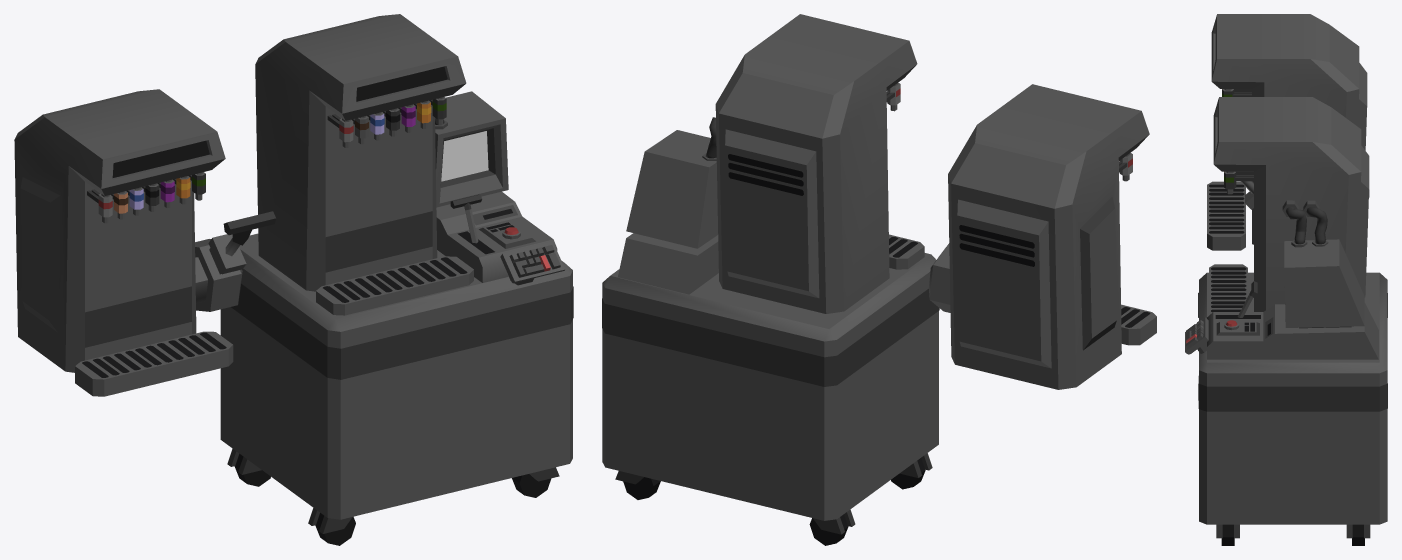
File: BoozeDispenser.fbx
3 renders of one model, left to right at view 1: azimuth 30°, elevation 25°; view 2: azimuth 150°, elevation 25°; view 3: azimuth 270°, elevation 25°, orthographic. The views are drawn at different scales.
Visible parts, largest first — view 1: BoozeDispenser, TableBoozeDispenser, TableBoozeDispenserPanel, TableBoozeDispenserLever, BoozeDispencerPanel; view 2: BoozeDispenser, TableBoozeDispenser, TableBoozeDispenserPanel, TableBoozeDispenserLever; view 3: BoozeDispenser, TableBoozeDispenser, BoozeDispencerPanel, BoozeDispenserLever.
Part boxes in pixels (bbox=[...]): BoozeDispenser: bbox=[220, 14, 573, 545]; TableBoozeDispenser: bbox=[14, 89, 233, 396]; TableBoozeDispenserPanel: bbox=[20, 177, 60, 332]; TableBoozeDispenserLever: bbox=[195, 211, 276, 311]; BoozeDispencerPanel: bbox=[479, 221, 535, 248]; BoozeDispenser: bbox=[602, 14, 939, 545]; TableBoozeDispenser: bbox=[948, 84, 1156, 389]; TableBoozeDispenserPanel: bbox=[1080, 197, 1116, 350]; TableBoozeDispenserLever: bbox=[928, 243, 950, 312]; BoozeDispenser: bbox=[1185, 97, 1387, 545]; TableBoozeDispenser: bbox=[1207, 14, 1367, 250]; BoozeDispencerPanel: bbox=[1216, 320, 1259, 335]; BoozeDispenserLever: bbox=[1237, 281, 1257, 317].
Bounding box in the file's own units: 1.74 × 1.6 × 0.7914.
